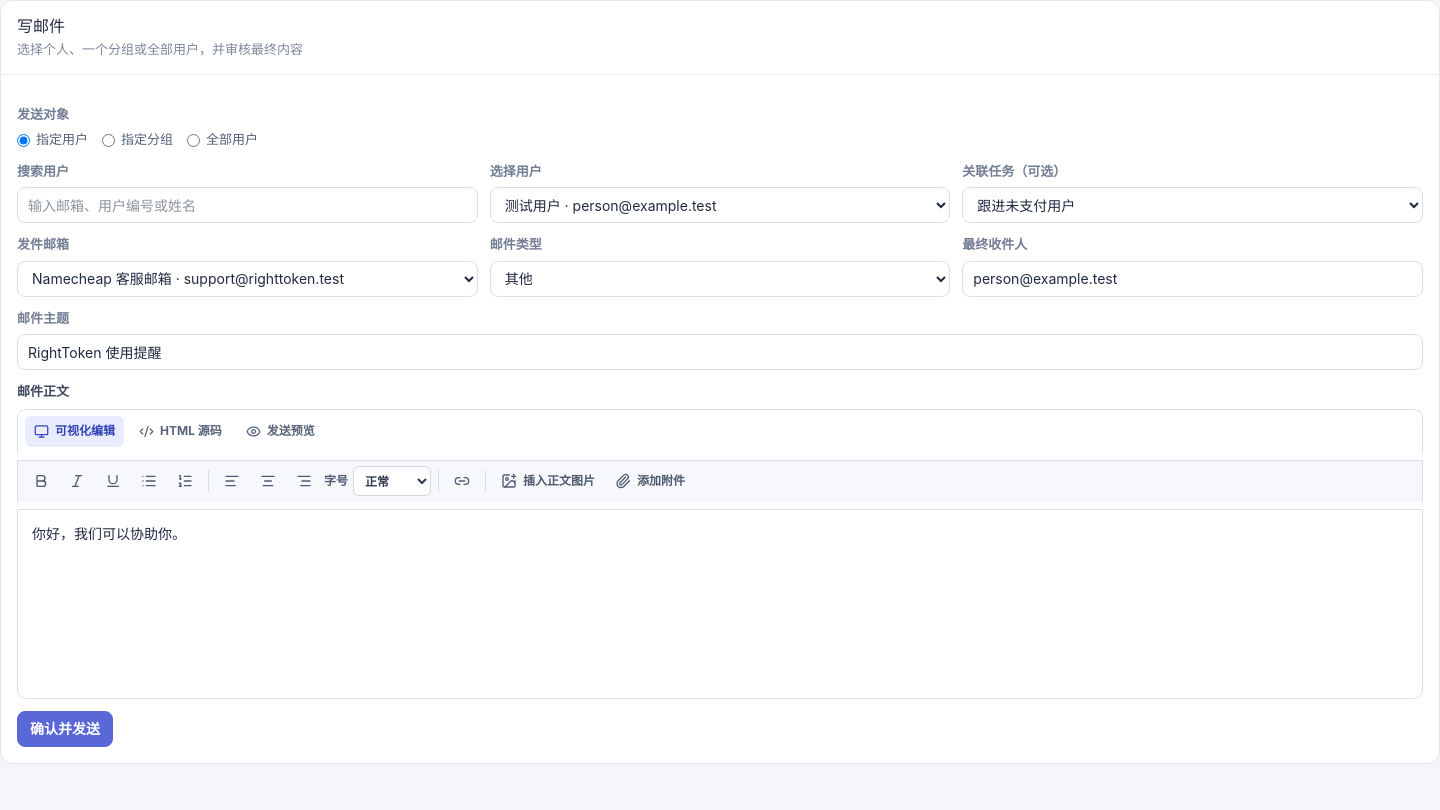
Scenario: MailComposer › submits final reviewed content to the server
Click the button "确认并发送" at (65, 729), box [17,711,113,747]
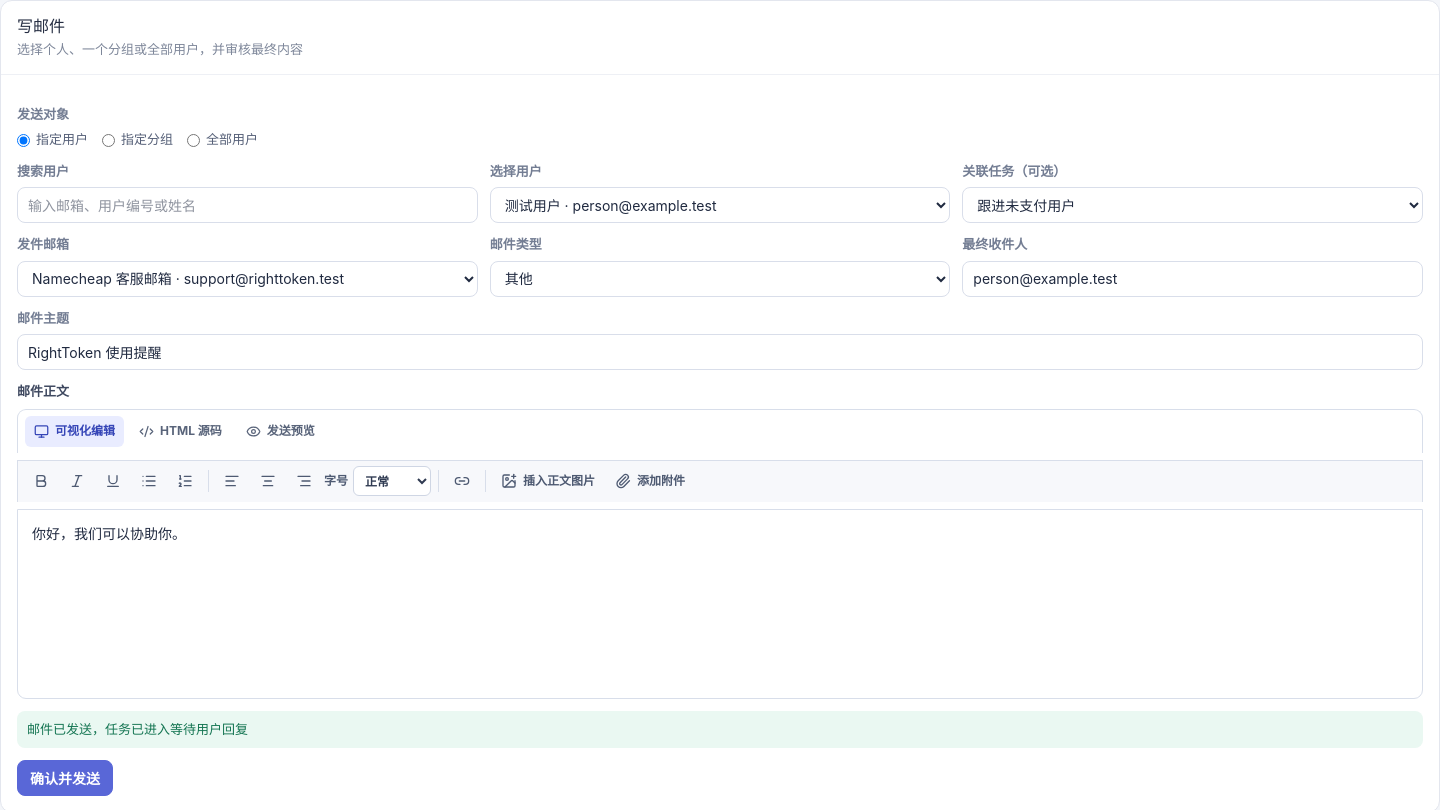
Expected: the text "邮件已发送，任务已进入等待用户回复" is shown, [17,711,1423,748]
